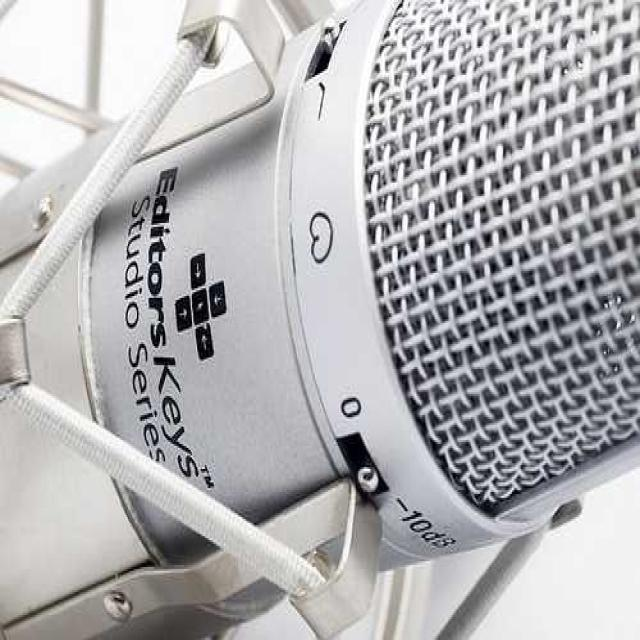microphone: (62, 1, 628, 567)
